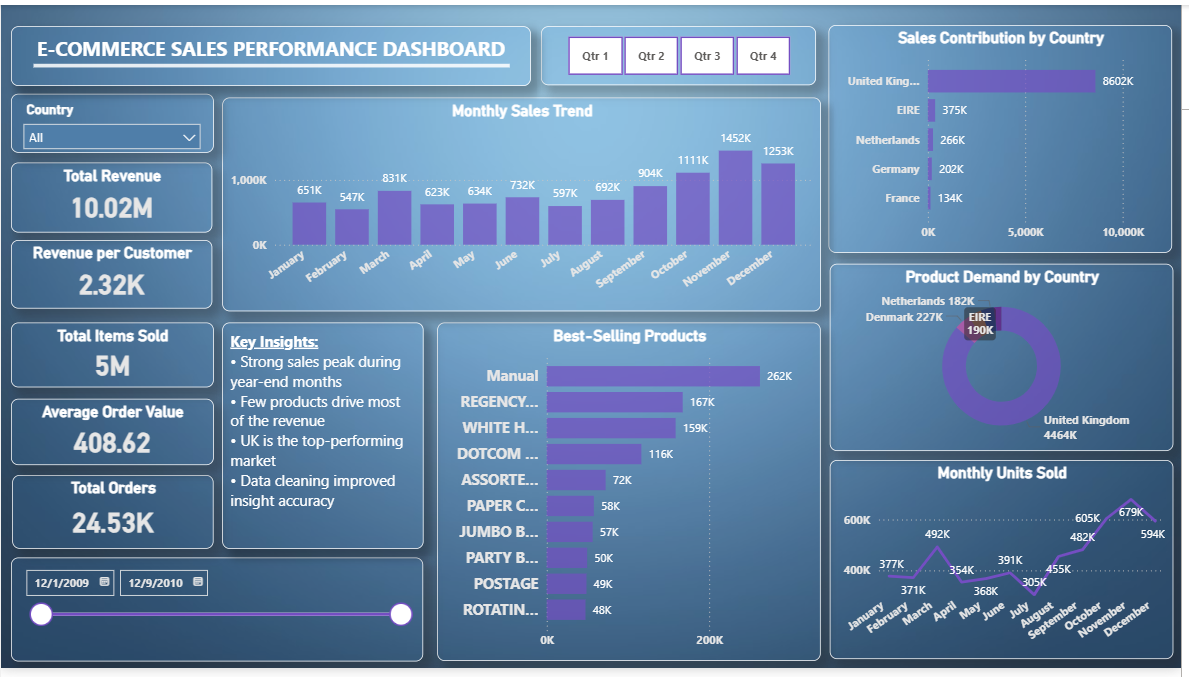

What the dashboard file says about the page in this screenshot:
{"tool":"powerbi","page":{"name":"Page 1","canvas":[1280,720],"ordinal":0},"visuals":[{"type":"barChart","title":"Sales Contribution by Country","fields":{"Category":["Year 2009-2010.Country"],"Y":["Sum(Year 2009-2010.Sales)"]},"box":[897.8,21.7,373,246.8],"z":0},{"type":"card","title":"Total Revenue","fields":{"Values":["Sum(Year 2009-2010.Sales)"]},"box":[10.8,170.9,218.4,75.9],"z":1000},{"type":"card","title":"Total Orders","fields":{"Values":["Count(Year 2009-2010.Invoice)"]},"box":[12.2,509.9,218.4,80],"z":2000},{"type":"card","title":"Total Items Sold","fields":{"Values":["Sum(Year 2009-2010.Quantity)"]},"box":[10.8,344.5,219.7,70.5],"z":3000},{"type":"barChart","title":"Best-Selling Products","fields":{"Category":["Year 2009-2010.Description"],"Y":["Sum(Year 2009-2010.Sales)"]},"box":[473.3,344.5,416.4,367.5],"z":4000},{"type":"card","title":"Revenue per Customer","fields":{"Values":["Year 2009-2010.Revenue per Order"]},"box":[10.8,255,218.4,74.6],"z":5000},{"type":"card","title":"Average Order Value","fields":{"Values":["Year 2009-2010.AOV"]},"box":[10.8,427.2,219.7,71.9],"z":6000},{"type":"columnChart","title":"Monthly Sales Trend","fields":{"Y":["Sum(Year 2009-2010.Sales)"],"Category":["Year 2009-2010.InvoiceDate.Variation.Date Hierarchy.Month"]},"box":[240.1,100.4,649.6,231.9],"z":7000},{"type":"donutChart","title":"Product Demand by Country","fields":{"Category":["Year 2009-2010.Country"],"Y":["Sum(Year 2009-2010.Quantity)"]},"box":[899.2,280.7,373,203.4],"z":8000},{"type":"lineChart","title":"Monthly Units Sold","fields":{"Category":["Year 2009-2010.InvoiceDate.Variation.Date Hierarchy.Month1"],"Y":["Sum(Year 2009-2010.Quantity)"]},"box":[899.2,493.7,373,215.6],"z":9000},{"type":"slicer","fields":{"Values":["Year 2009-2010.InvoiceDate"]},"box":[10.8,599.5,447.6,112.6],"z":10000},{"type":"slicer","fields":{"Values":["Year 2009-2010.InvoiceDate.Variation.Date Hierarchy.Quarter"]},"box":[585.9,23.1,298.4,63.7],"z":11000},{"type":"slicer","fields":{"Values":["Year 2009-2010.Country"]},"box":[10.8,96.3,219.7,63.7],"z":12000},{"type":"textbox","box":[10.8,23.1,564.2,65.1],"z":13000},{"type":"shape","box":[35.3,21.7,516.7,88.2],"z":14000},{"type":"textbox","box":[240.1,344.5,218.4,245.5],"z":15000}]}

Visuals, with their boxes in screenshot pixels (x1, y1, x2, y2), scaled from the page's 1280x720 canvas onto the 1189x677 screenshot:
"Sales Contribution by Country" barChart: [x1=834, y1=20, x2=1180, y2=252]
"Total Revenue" card: [x1=10, y1=161, x2=213, y2=232]
"Total Orders" card: [x1=11, y1=479, x2=214, y2=555]
"Total Items Sold" card: [x1=10, y1=324, x2=214, y2=390]
"Best-Selling Products" barChart: [x1=440, y1=324, x2=826, y2=669]
"Revenue per Customer" card: [x1=10, y1=240, x2=213, y2=310]
"Average Order Value" card: [x1=10, y1=402, x2=214, y2=469]
"Monthly Sales Trend" columnChart: [x1=223, y1=94, x2=826, y2=312]
"Product Demand by Country" donutChart: [x1=835, y1=264, x2=1182, y2=455]
"Monthly Units Sold" lineChart: [x1=835, y1=464, x2=1182, y2=667]
slicer - Year 2009-2010.InvoiceDate: [x1=10, y1=564, x2=426, y2=670]
slicer - Year 2009-2010.InvoiceDate.Variation.Date Hierarchy.Quarter: [x1=544, y1=22, x2=821, y2=82]
slicer - Year 2009-2010.Country: [x1=10, y1=91, x2=214, y2=150]
textbox: [x1=10, y1=22, x2=534, y2=83]
shape: [x1=33, y1=20, x2=513, y2=103]
textbox: [x1=223, y1=324, x2=426, y2=555]
